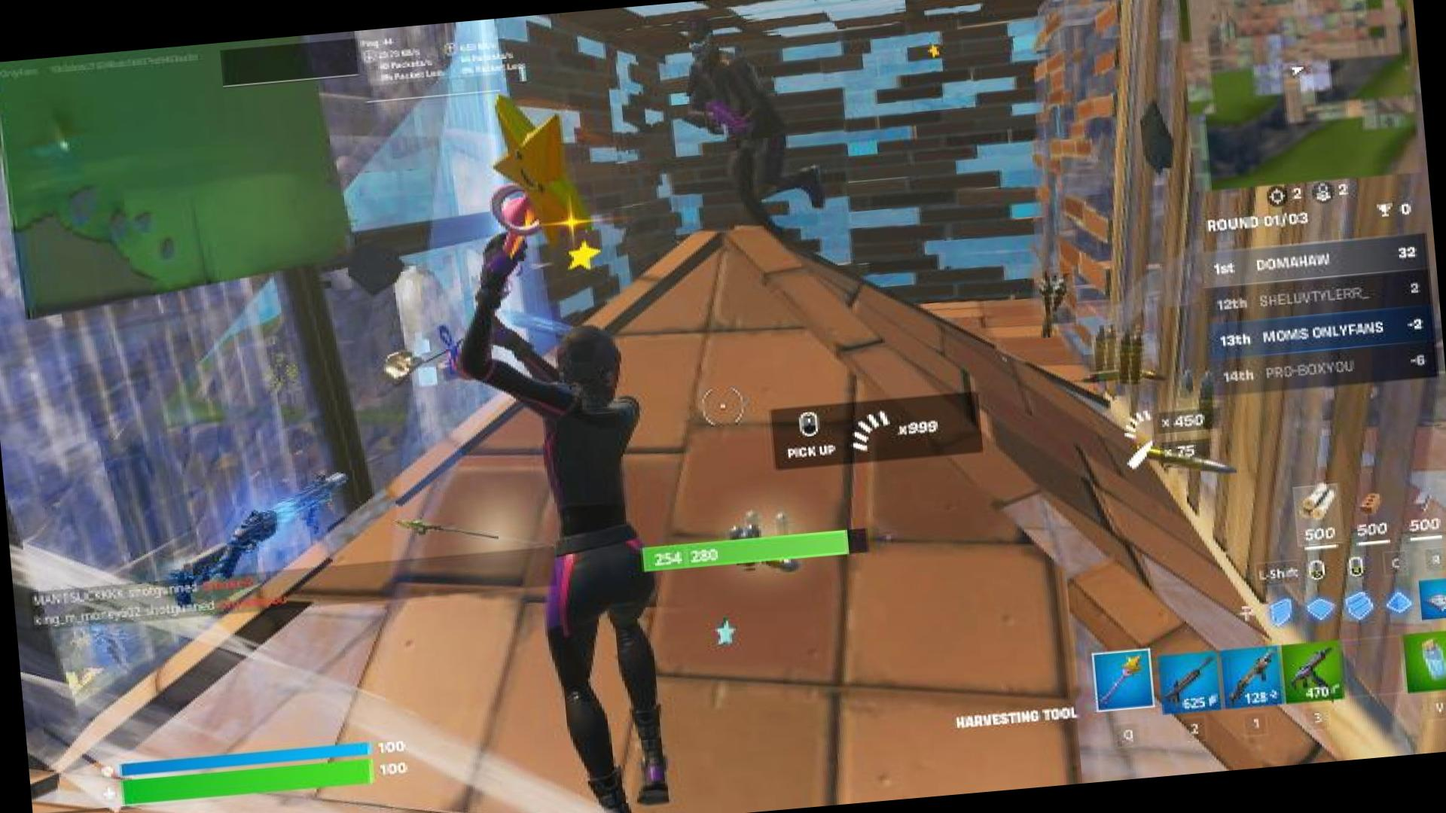player: (430, 237, 763, 813), (668, 0, 853, 247)
